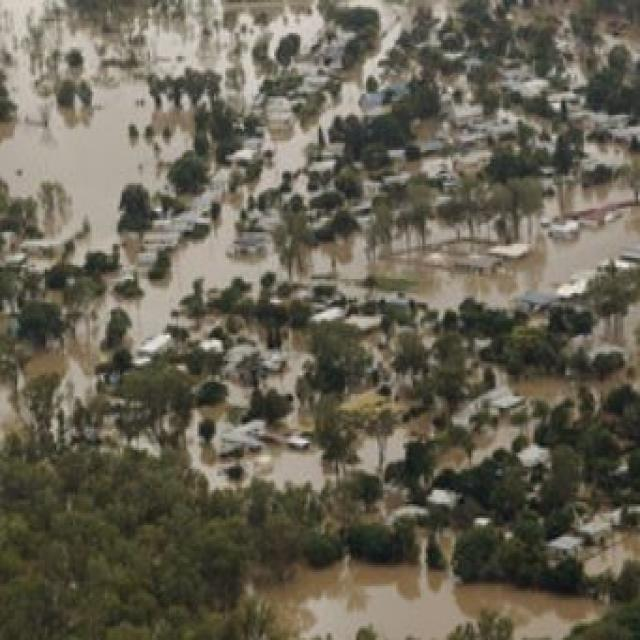flooded_areas: (34, 7, 621, 506)
